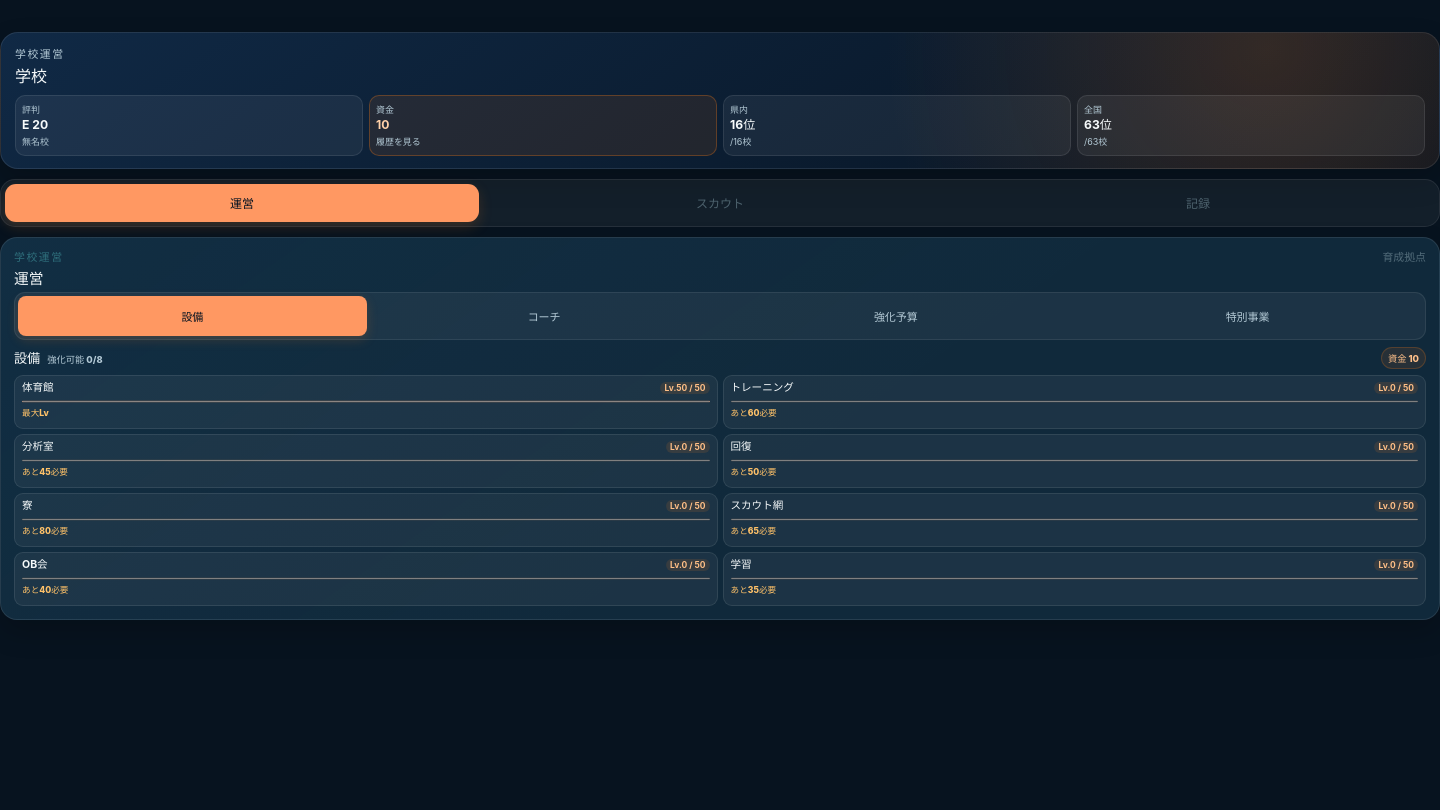
Test case: school management screen › disables upgrades when funds are insufficient or the facility is maxed
Expected: the text "あと60必要" is shown, [730,408,777,418]
Click the button with aria-label "体育館の詳細" at (366, 402), box [14,375,718,429]
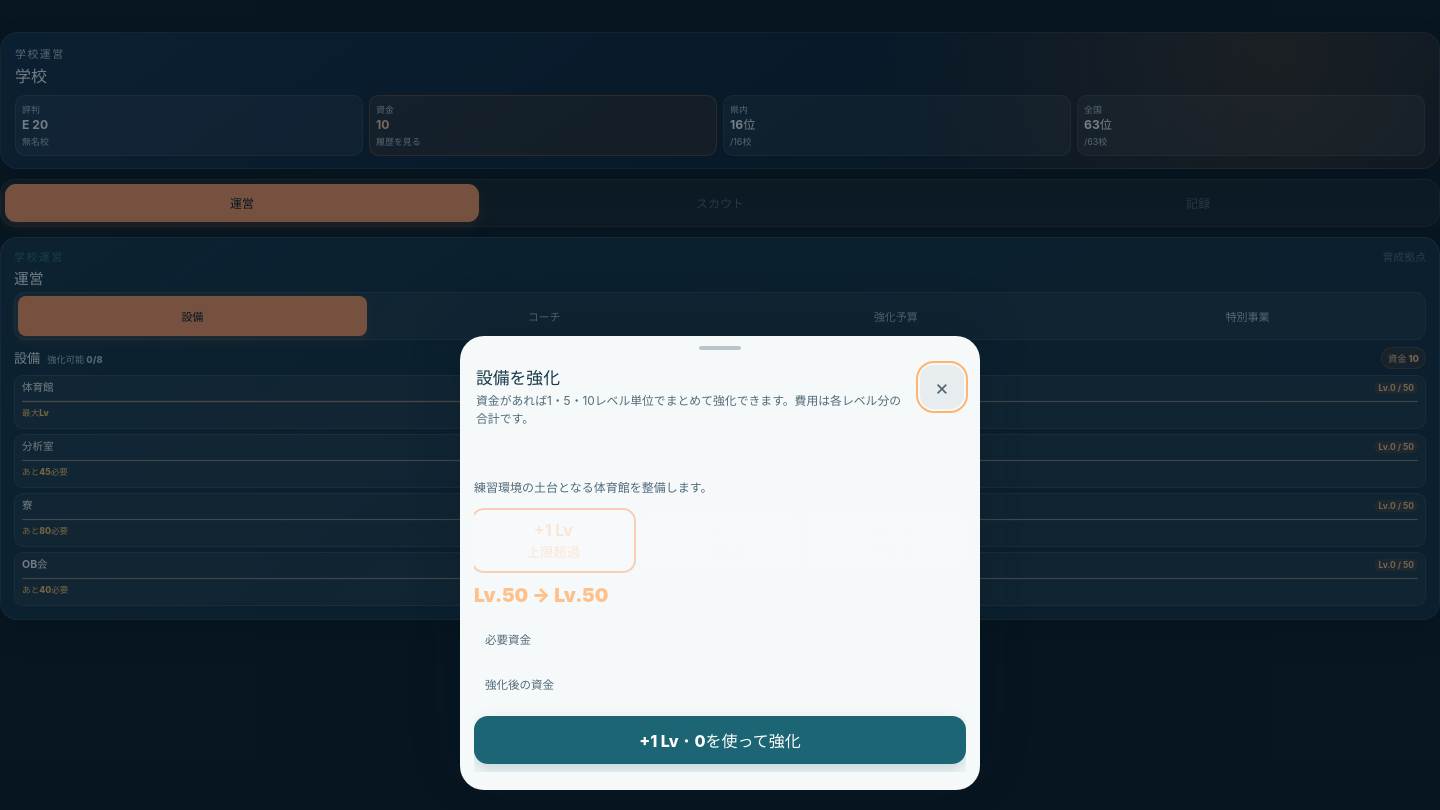
Expected: the button with aria-label "体育館は最大レベル" is disabled, [474,716,966,764]
Click the button named "閉じる" at (942, 387), box [920,365,964,409]
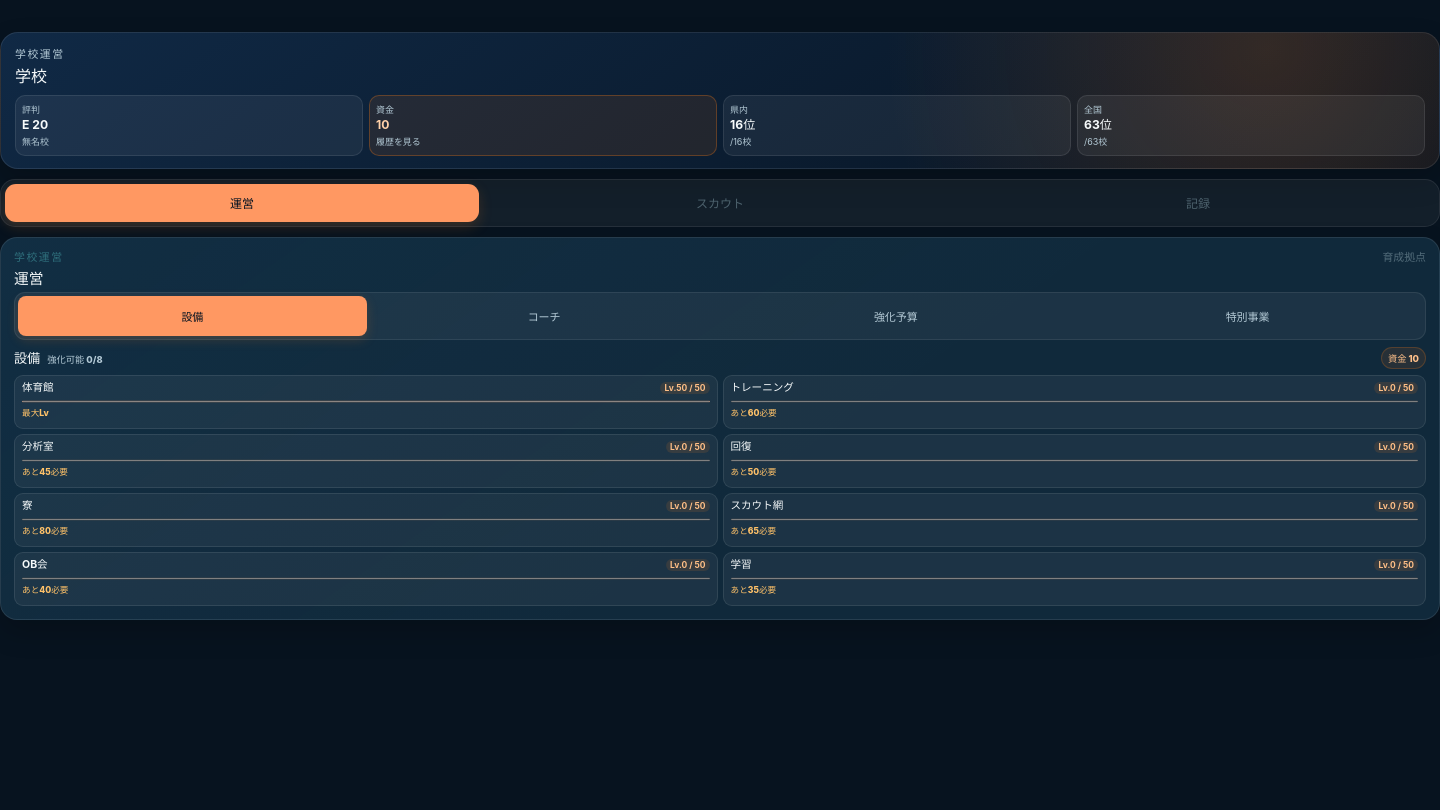
Click the button with aria-label "トレーニング設備の詳細" at (1074, 402), box [722,375,1426,429]
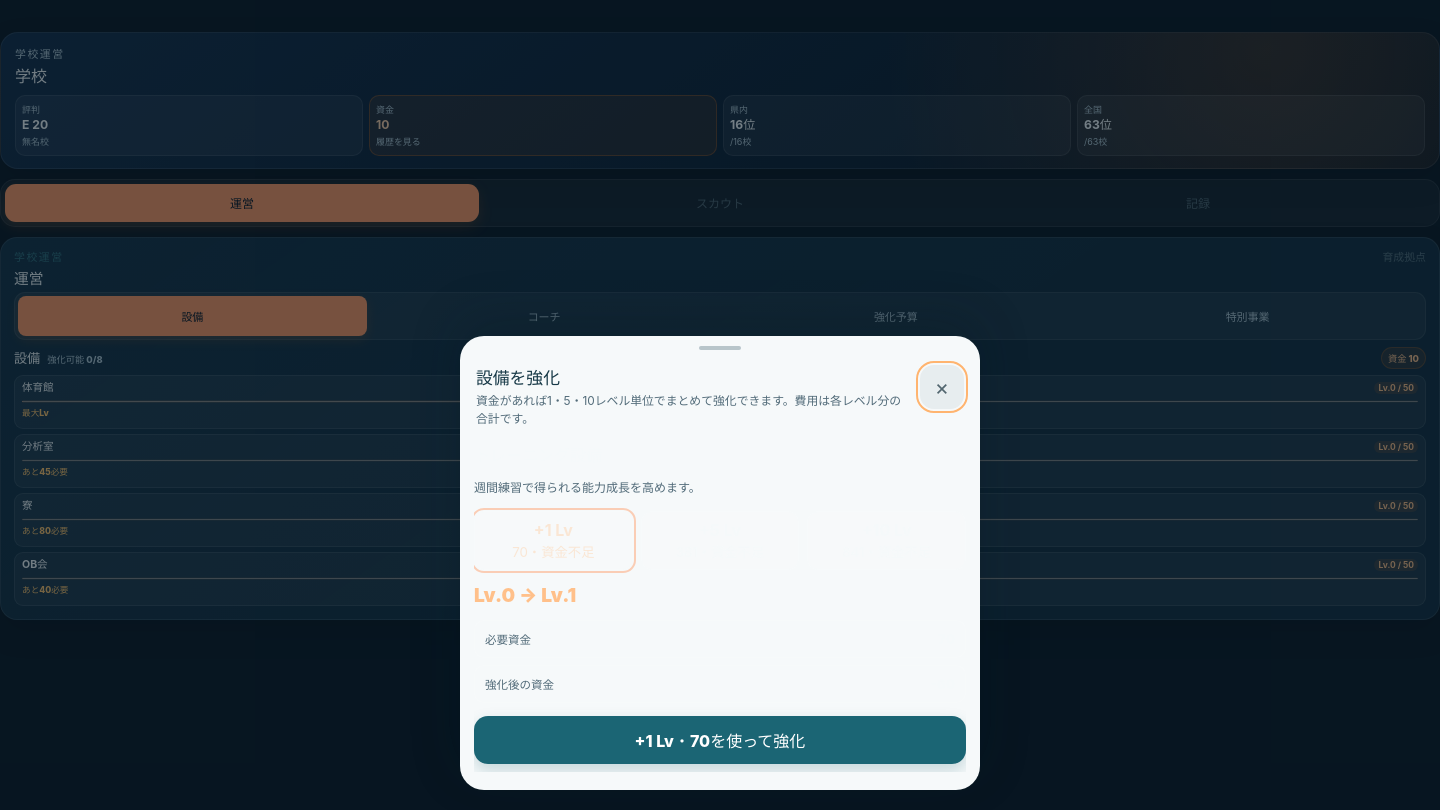
Expected: the button with aria-label "トレーニング設備は資金不足" is disabled, [474,716,966,764]
